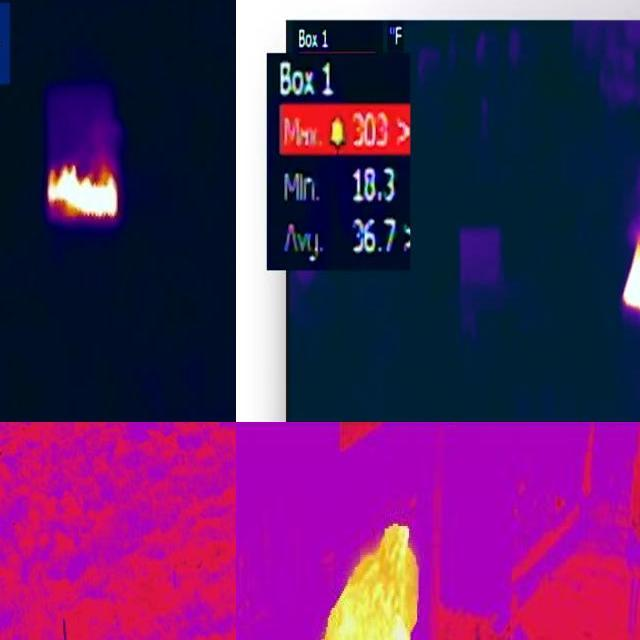fire: (318, 523, 421, 640), (45, 159, 119, 221), (622, 216, 640, 326)
